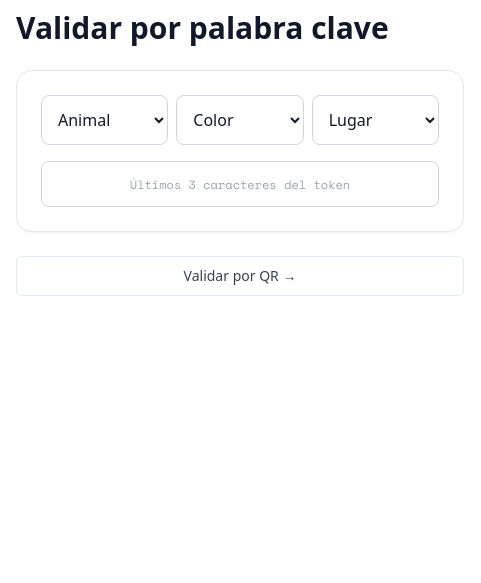
Test case: CheckWordPage › auto-looks up once the code word and suffix are complete, and shows Validar
Select "lombriz" in the 1st dropdown: point(105, 120) [41, 95, 168, 145]
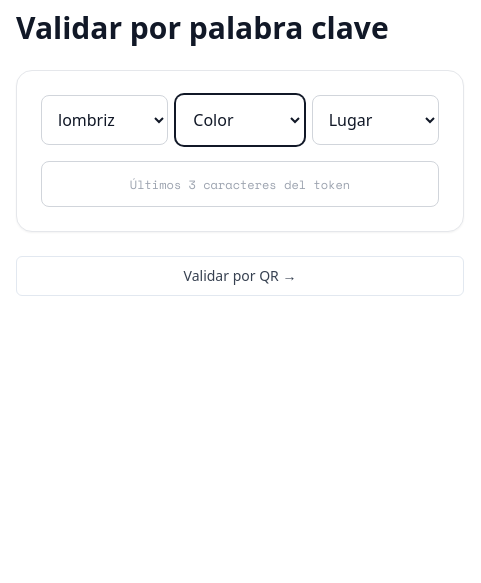
Select "roja" in the 2nd dropdown: point(240, 120) [176, 95, 304, 145]
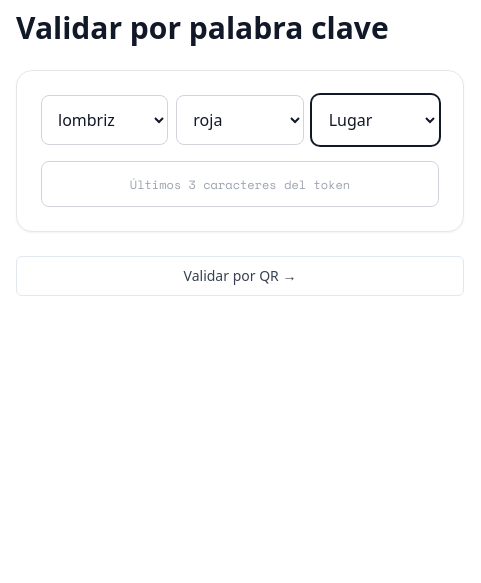
Select "del monte" in the 3rd dropdown: point(375, 120) [312, 95, 439, 145]
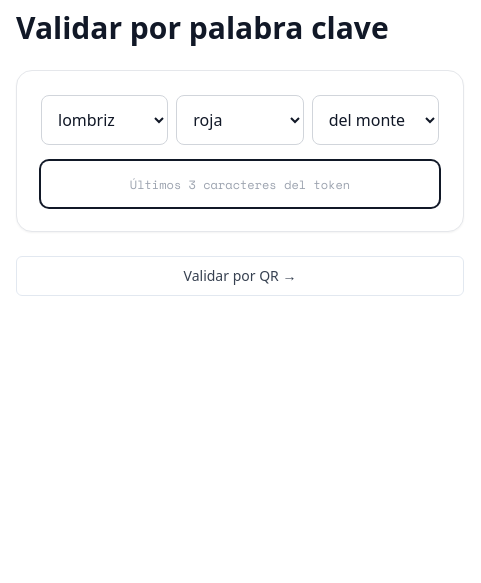
In the field with placeholder "Últimos 3 caracteres del token": point(240, 184) [41, 161, 439, 207], type "abc"
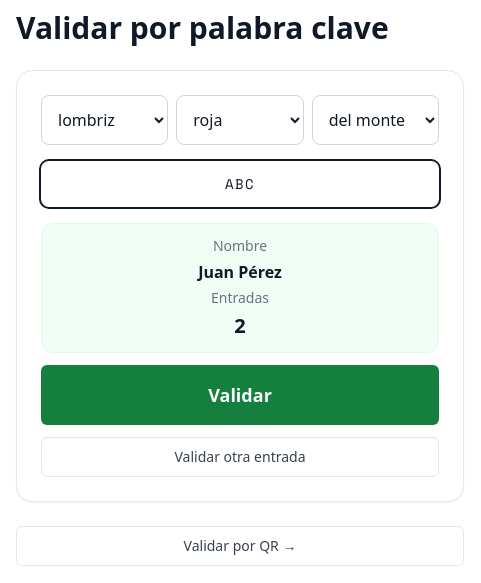
Now the text "Juan Pérez" is shown, box [198, 261, 282, 283]
Now the text "2" is shown, box [234, 312, 246, 339]
Now the button "Validar" is shown, box [41, 365, 439, 425]
